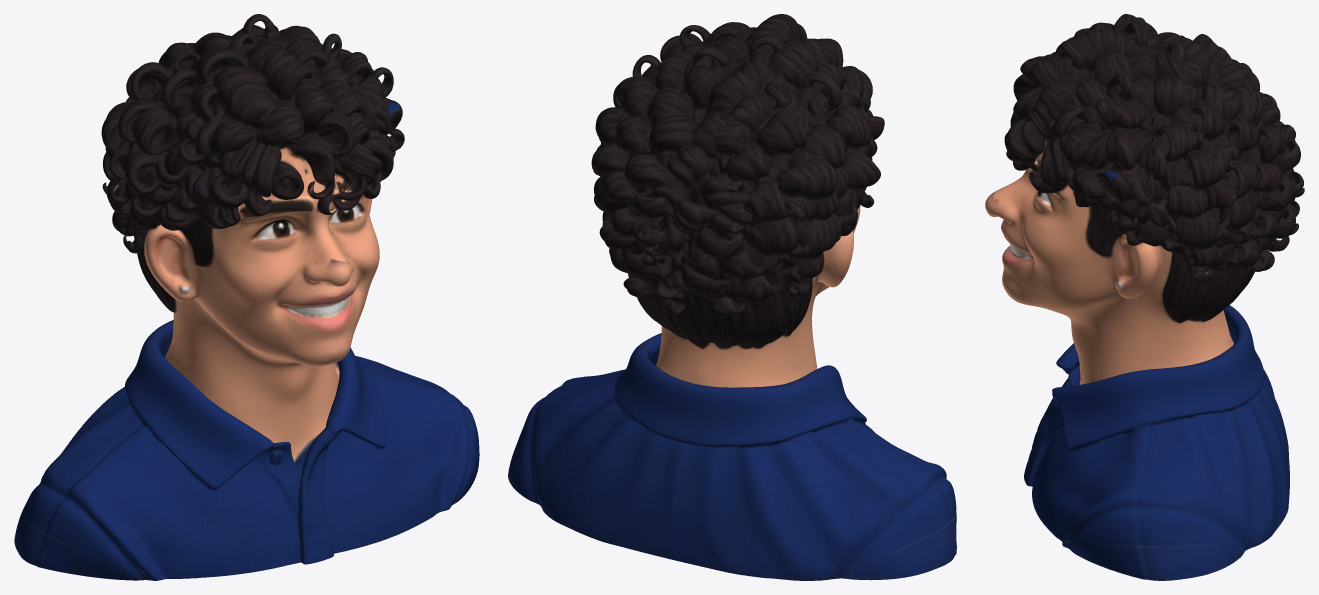
File: meshy-avatar-textured.glb
3 views of the same model, side by side, from view 1: azimuth 30°, elevation 25°; view 2: azimuth 150°, elevation 25°; view 3: azimuth 270°, elevation 25° (orthographic). The views are drawn at different scales.
Bounding box in the file's own units: 1.83 × 1.9 × 1.22.
Materials: 1 (1 with a texture image).
